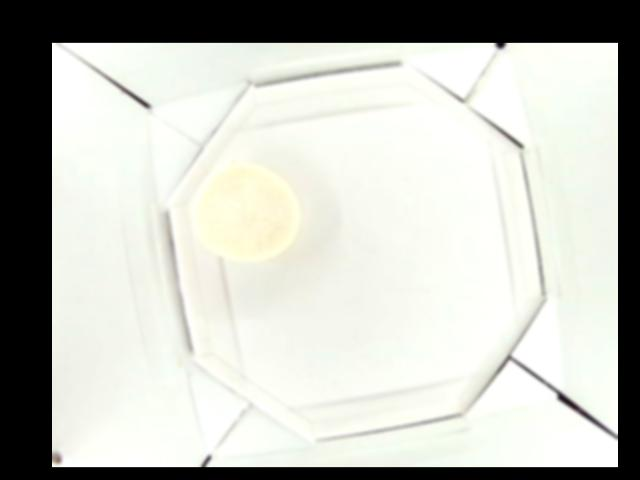Mooli: (191, 163, 300, 263)
